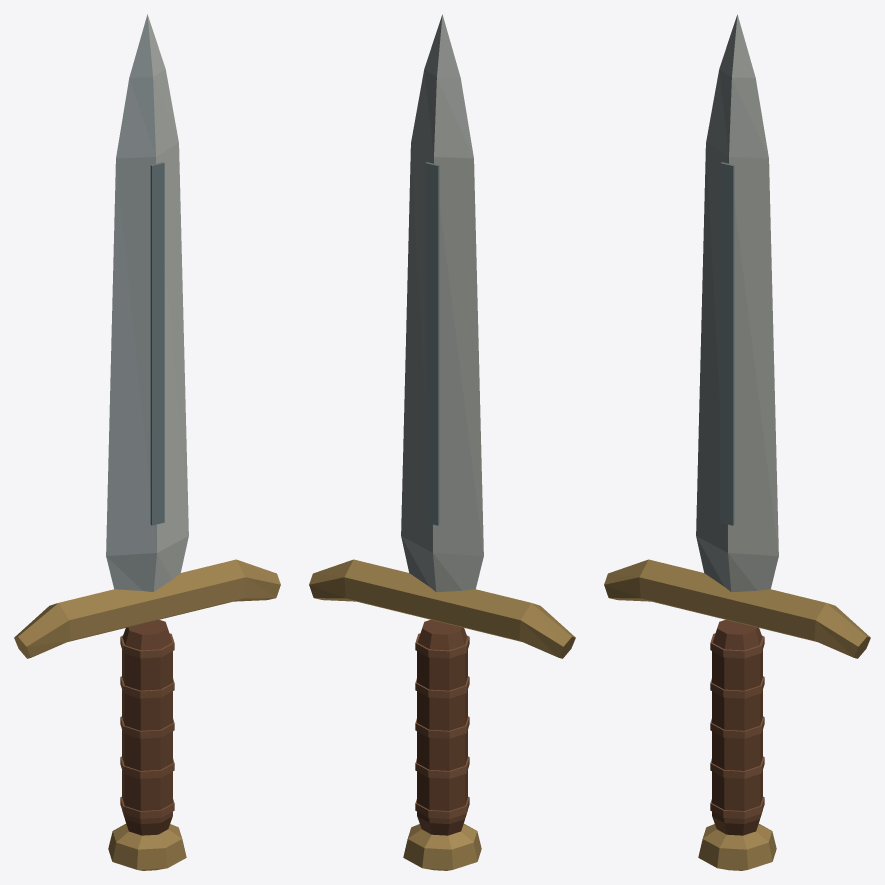
The model's file is weapon_sword_long.glb.
3 views of the same model, side by side, from view 1: azimuth 30°, elevation 25°; view 2: azimuth 150°, elevation 25°; view 3: azimuth 330°, elevation 25° (orthographic).
Visible parts, largest first — view 1: weapon_sword_long; view 2: weapon_sword_long; view 3: weapon_sword_long.
Boxes of the visible parts, x1,y1,x2,y2 form: weapon_sword_long: (14,14,280,870); weapon_sword_long: (309,14,575,870); weapon_sword_long: (604,14,870,870).
Size of the model in its own units: 0.4562 by 1.43 by 0.1239.
